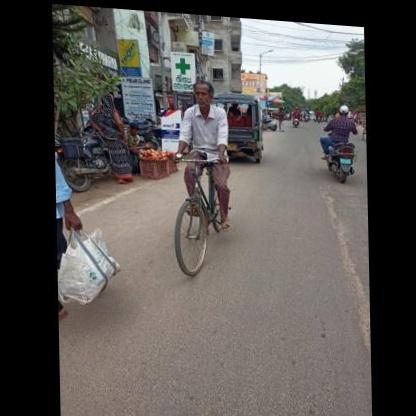Bicycle: (164, 151, 247, 282)
